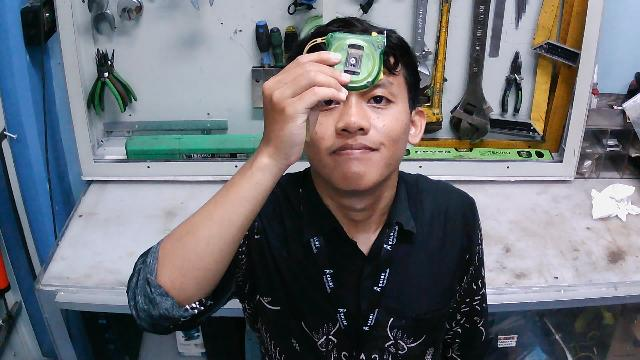meteran: (303, 29, 390, 94)
